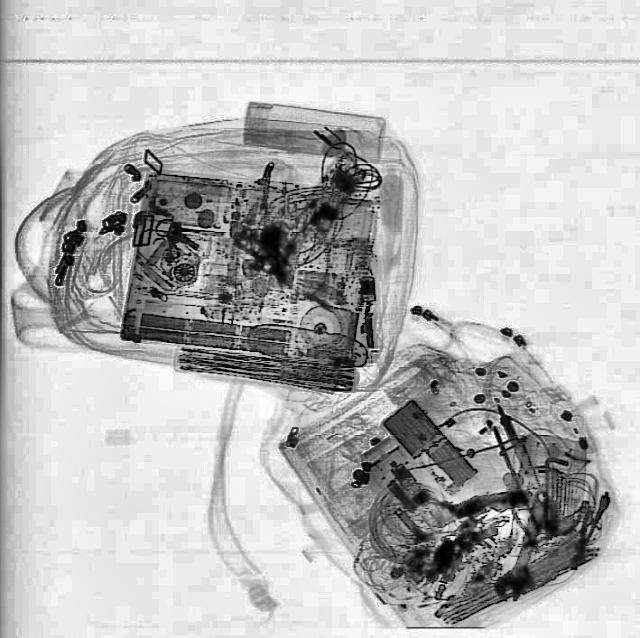Wrench: (489, 484, 563, 606)
